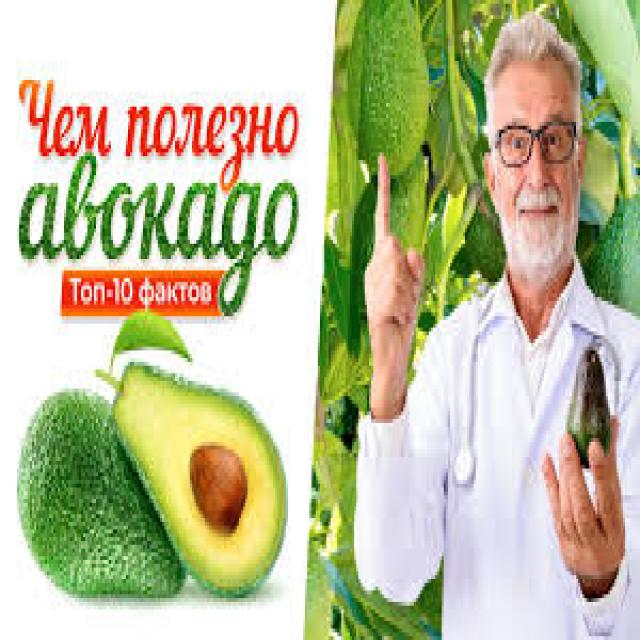avocado: (75, 334, 302, 590), (0, 340, 178, 598), (564, 326, 619, 481)
